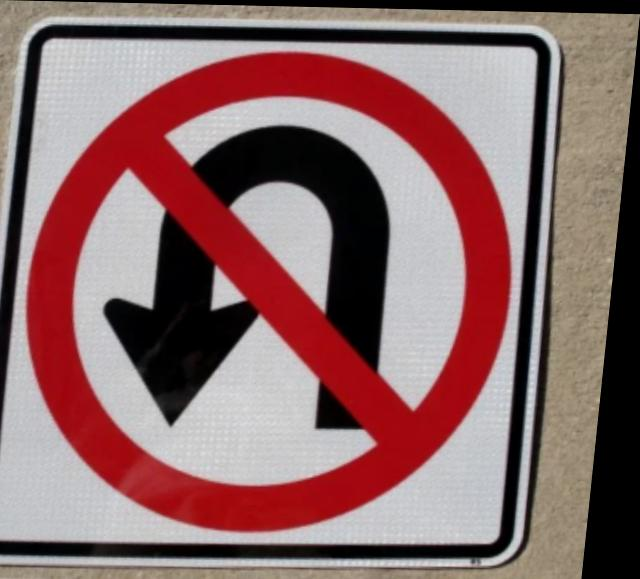not_u_turn_left: (10, 33, 541, 553)
